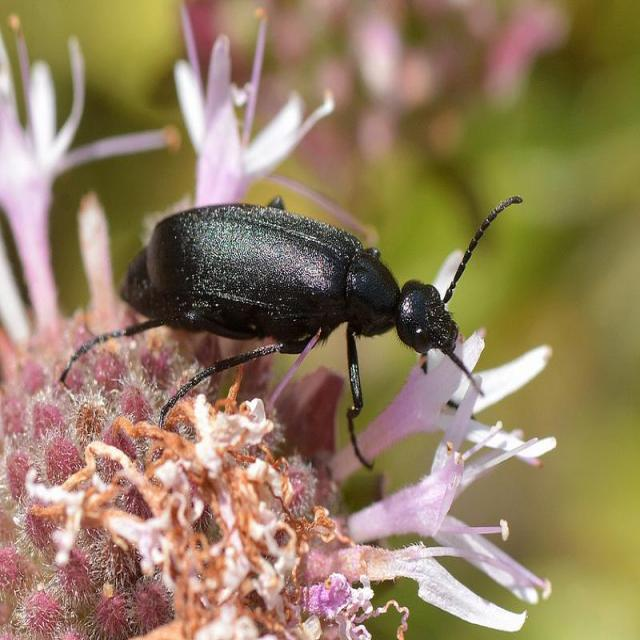BlisterBeetle-Adult-: (68, 176, 544, 454)
